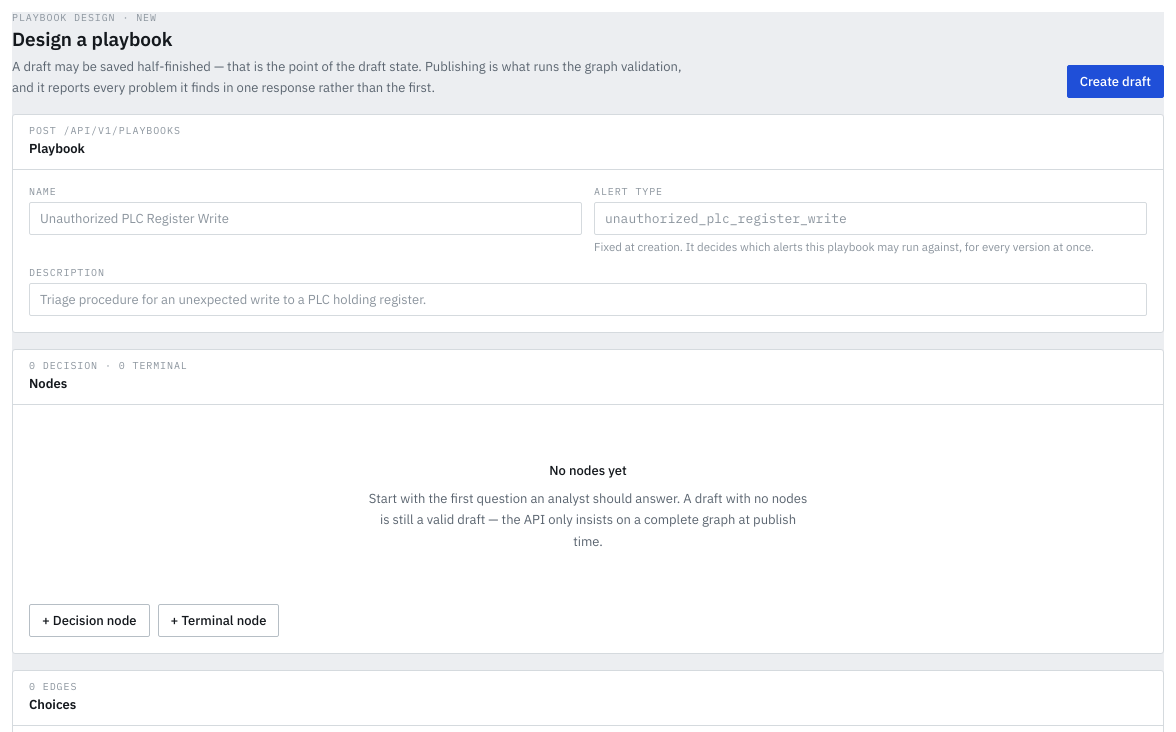
Scenario: PlaybookEditorScreen stale validation errors › drops the alert type error independently of the name error
This screenshot has width=1176, height=732.
Click the button "Create draft" at (1115, 81), box [1067, 64, 1164, 98]
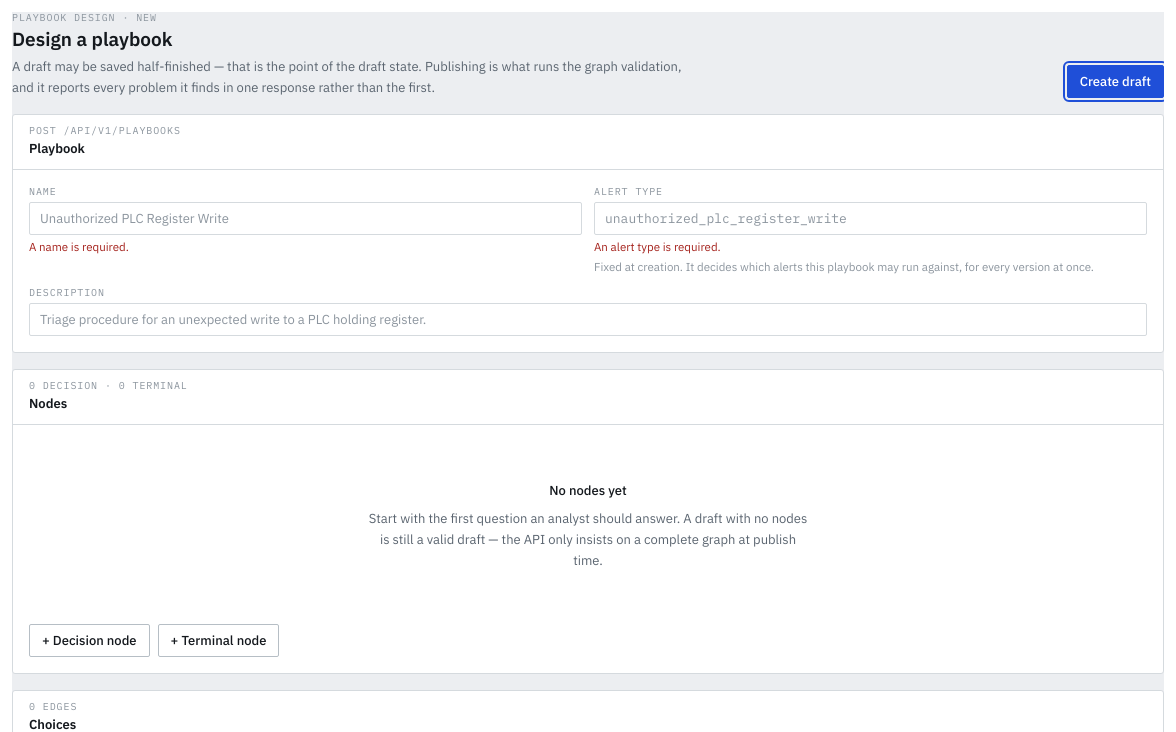
Expected: the text "A name is required." is shown, [29, 239, 129, 254]
Expected: the text "An alert type is required." is shown, [594, 239, 721, 254]
Type "x" into the field labelled "Alert type" at (870, 218), box [594, 202, 1147, 235]
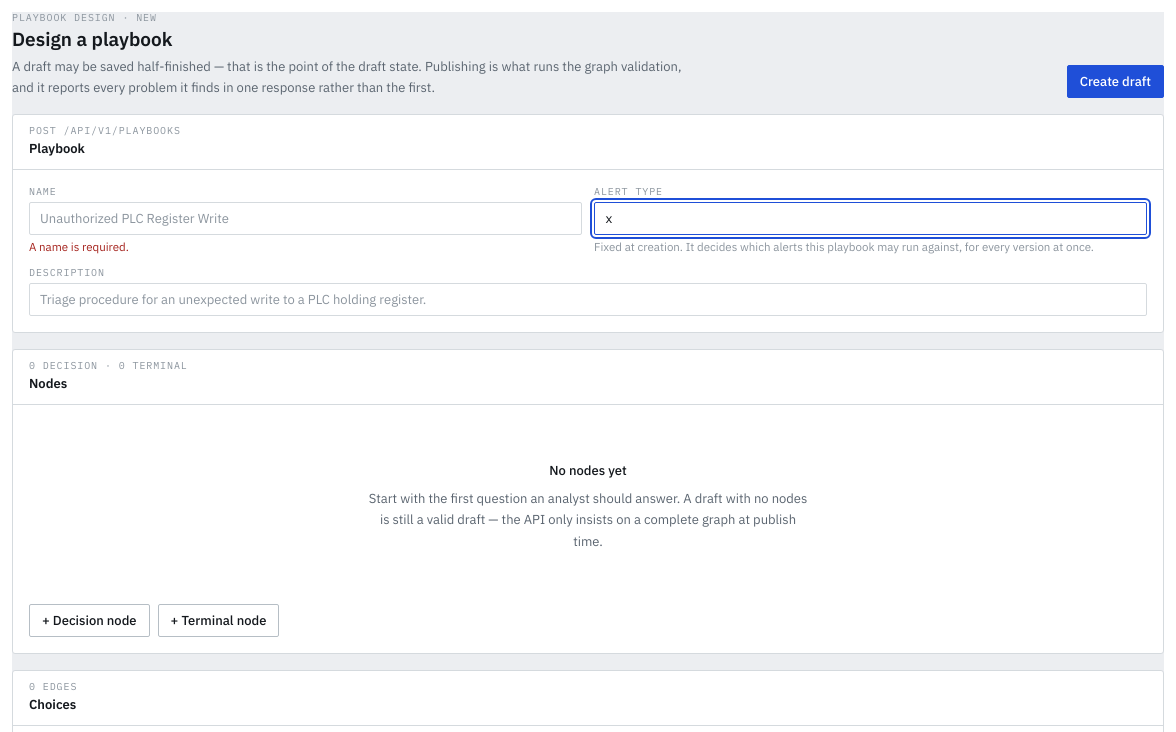
Expected: the text "A name is required." is shown, [29, 239, 129, 254]
Expected: the text "An alert type is required." is gone
